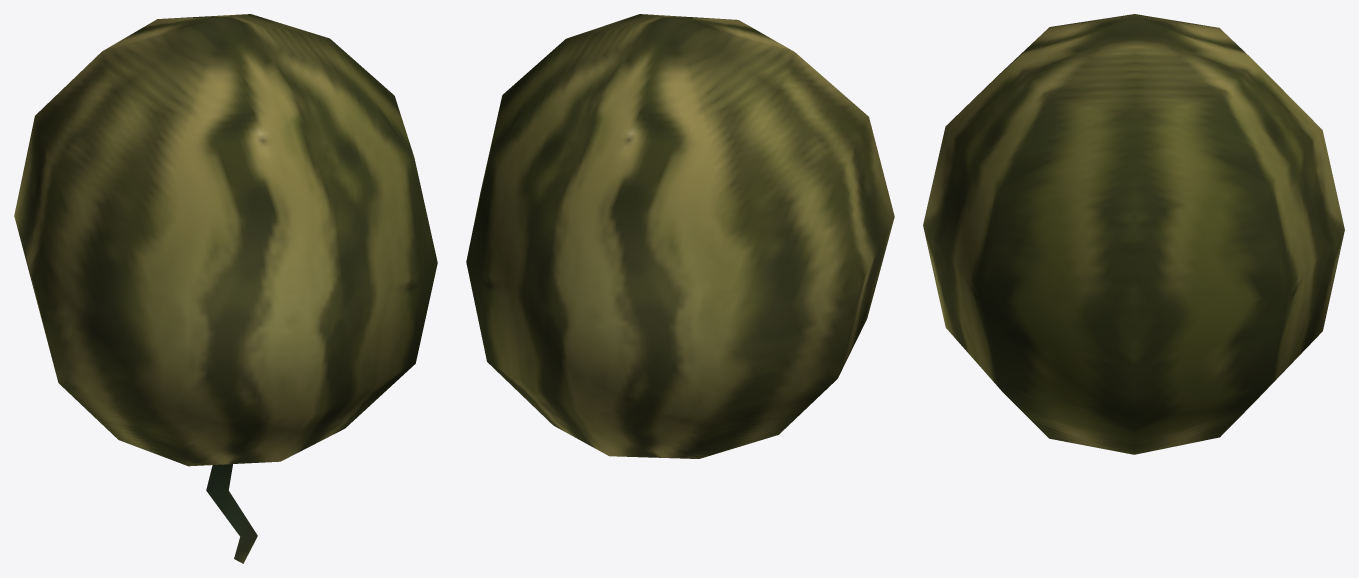
Rendered from Melon C.glb.
The picture shows the model from 3 angles, left to right: view 1: azimuth 30°, elevation 25°; view 2: azimuth 150°, elevation 25°; view 3: azimuth 270°, elevation 25°; orthographic projection. The views are drawn at different scales.
Parts seen in each view (by area): view 1: Melon C; view 2: Melon C; view 3: Melon C.
Part boxes in pixels (left/top/right/bottom): Melon C: left=14, top=14, right=437, bottom=563; Melon C: left=466, top=14, right=894, bottom=458; Melon C: left=923, top=14, right=1344, bottom=454.
Bounding box in the file's own units: 0.9969 × 1.38 × 0.9868.
1 material, 1 textured.
